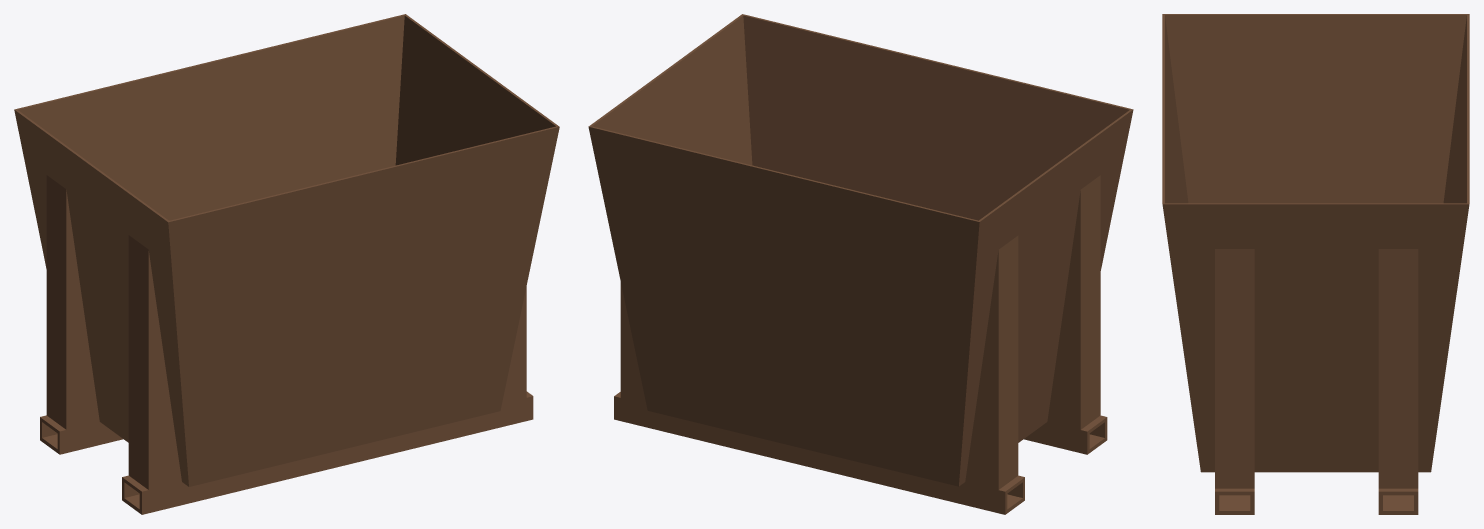
File: KrätzekübelGroß3D.dae
The picture shows the model from 3 angles, left to right: view 1: azimuth 30°, elevation 25°; view 2: azimuth 150°, elevation 25°; view 3: azimuth 270°, elevation 25°; orthographic projection.
Visible parts, largest first — view 1: node0; view 2: node0; view 3: node0.
Boxes of the visible parts, x1,y1,x2,y2 form: node0: (14, 14, 559, 514); node0: (588, 14, 1133, 514); node0: (1162, 14, 1469, 514).
Size of the model in its own units: 1.76 by 1.2 by 1.34.
